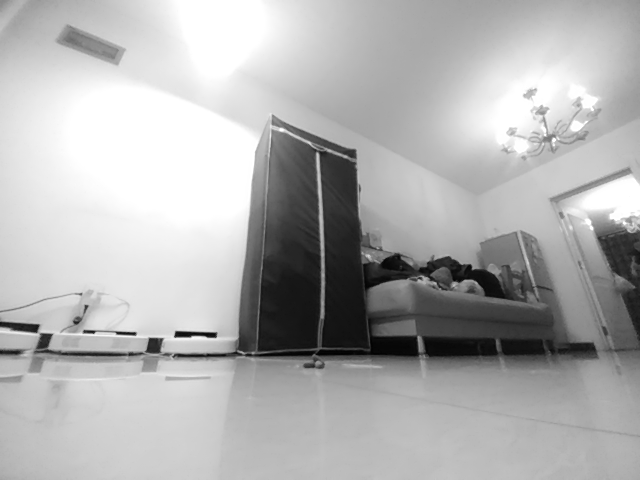pet feces: (302, 352, 325, 368)
